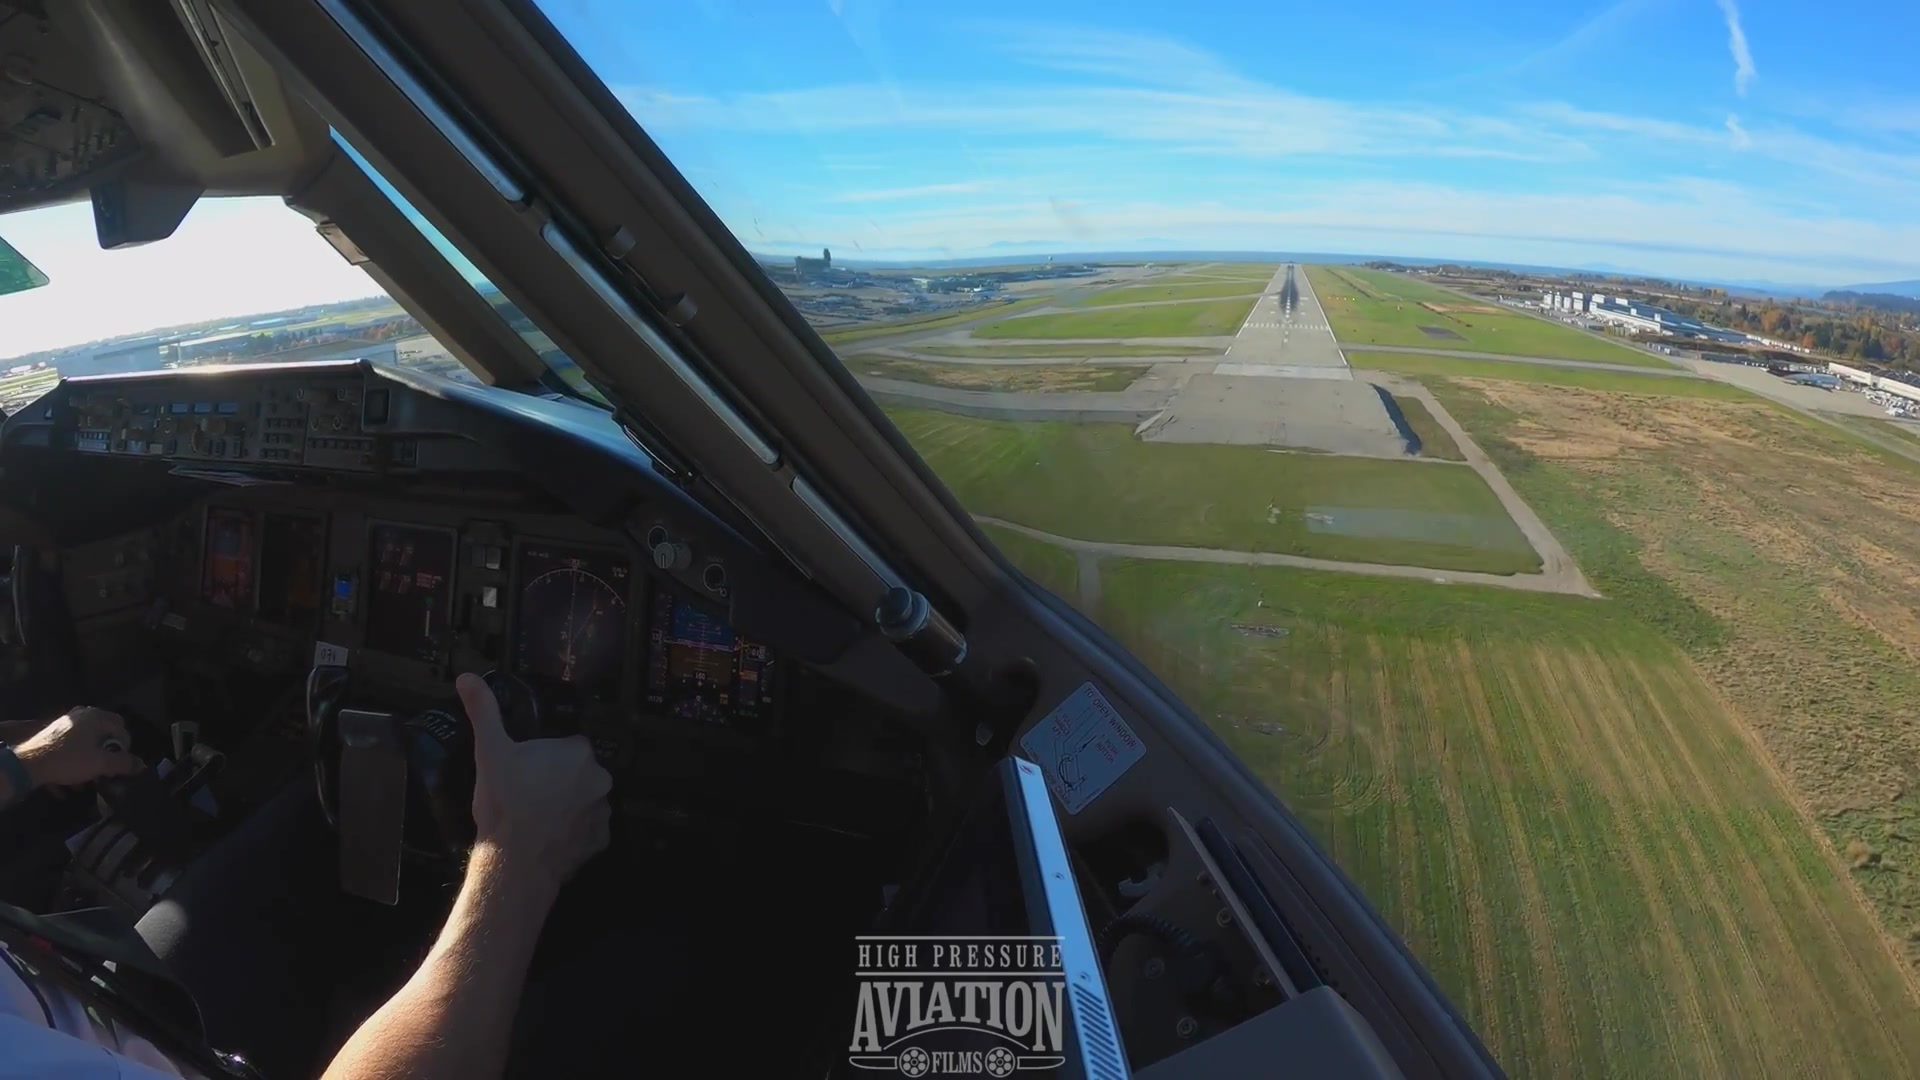entrance: (1240, 320, 1331, 331)
runway: (1218, 264, 1345, 367)
